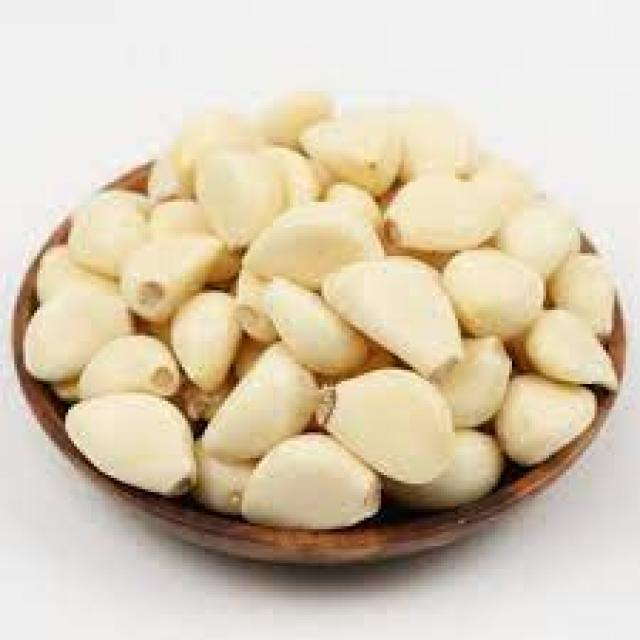garlic: (114, 228, 464, 475), (176, 145, 466, 384)
